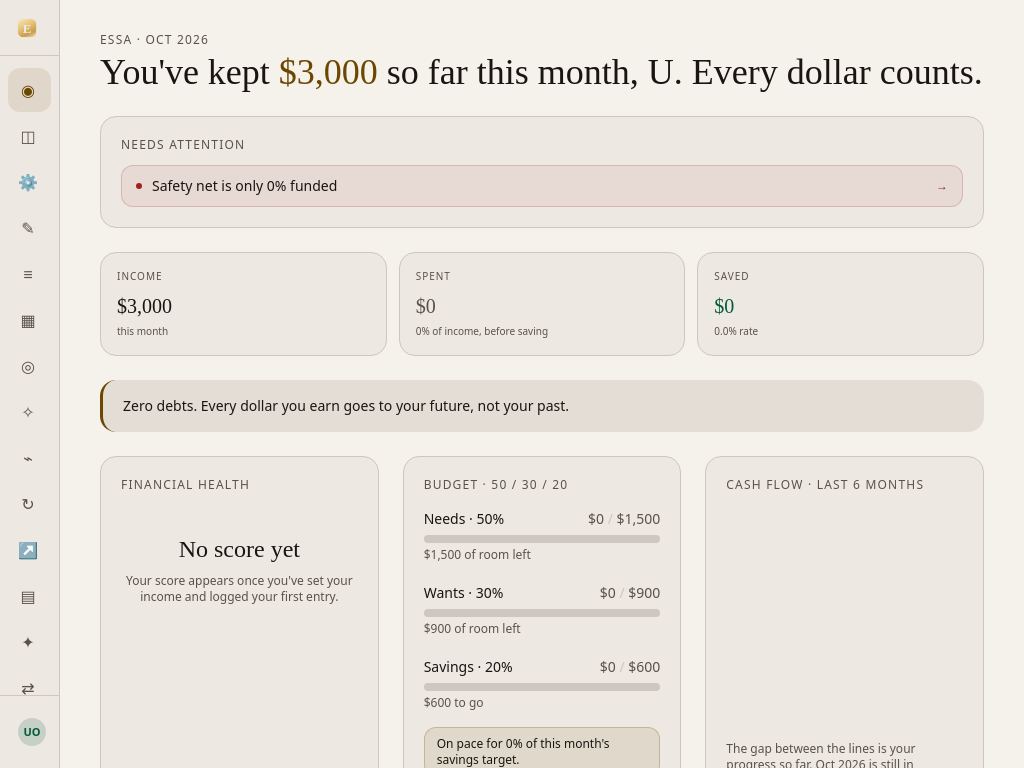
Test: a save that fails tells the user (ERR-01) › once storage takes writes again, the next change saves and the message goes
Expected: the button named "Setup" is shown, [8,160,51,204]
Click the button named "Wishlist" at (30, 412), box [8,390,51,434]
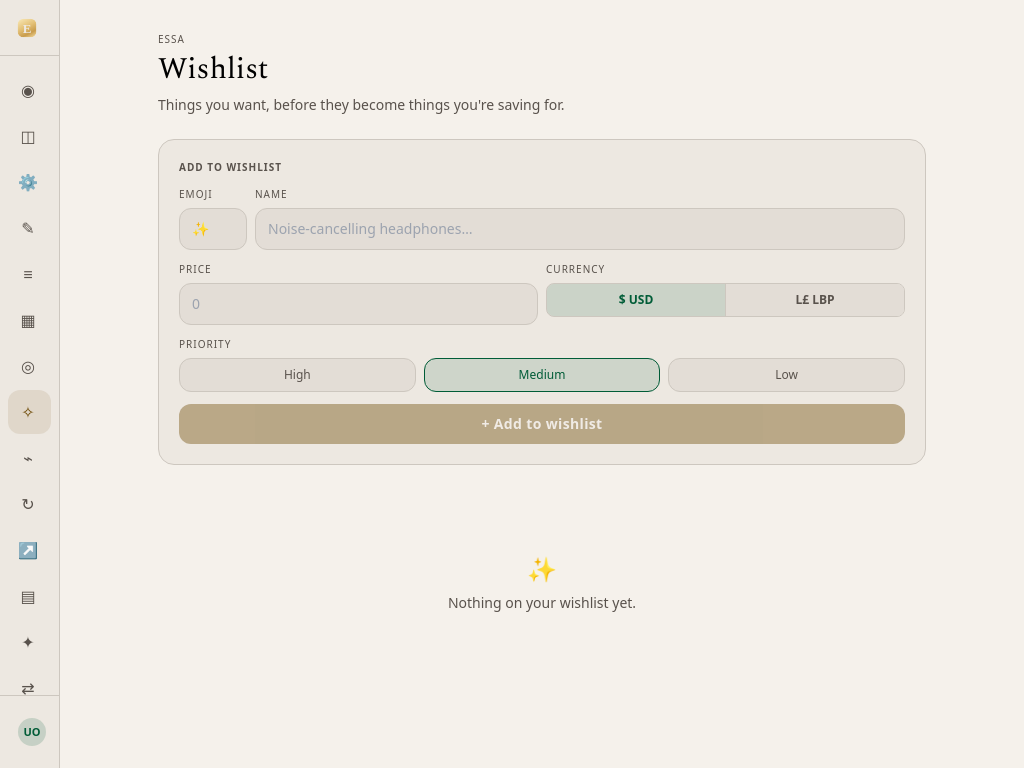
Expected: the field with placeholder "Noise-cancelling headphones…" is shown
Type "Standing desk" into the field with placeholder "Noise-cancelling headphones…" at (580, 229), box [255,208,905,250]
Type "300" into the field with id "wish-price" at (358, 304), box [179,283,538,325]
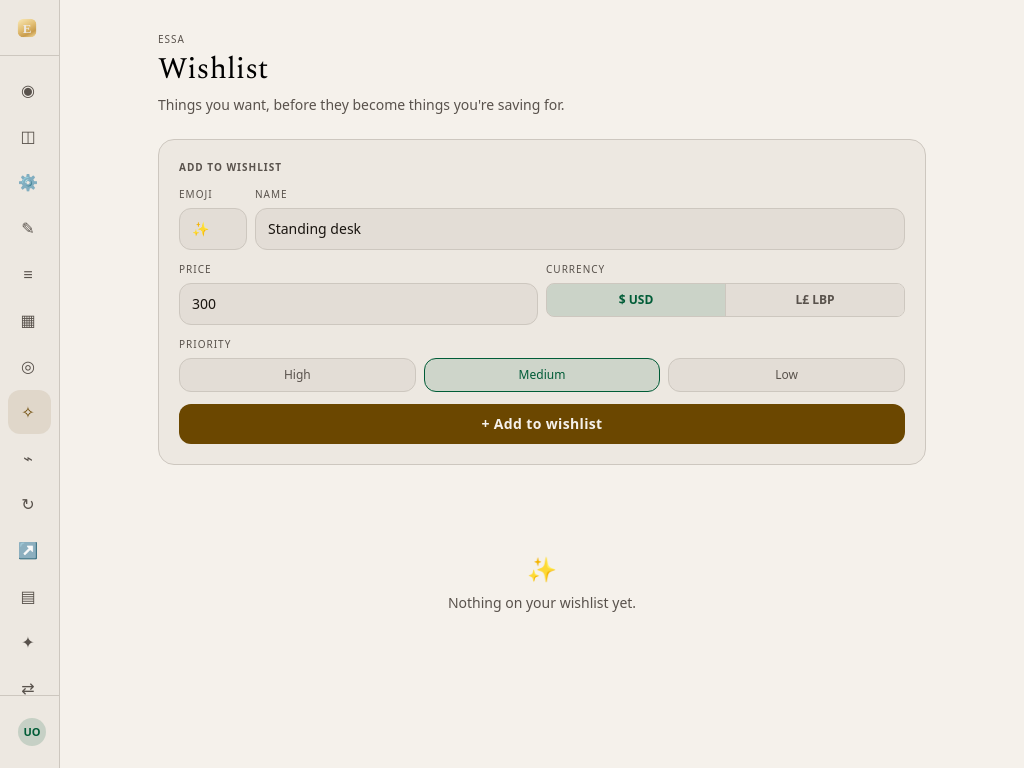
Click the button "+ Add to wishlist" at (542, 424), box [179,404,905,444]
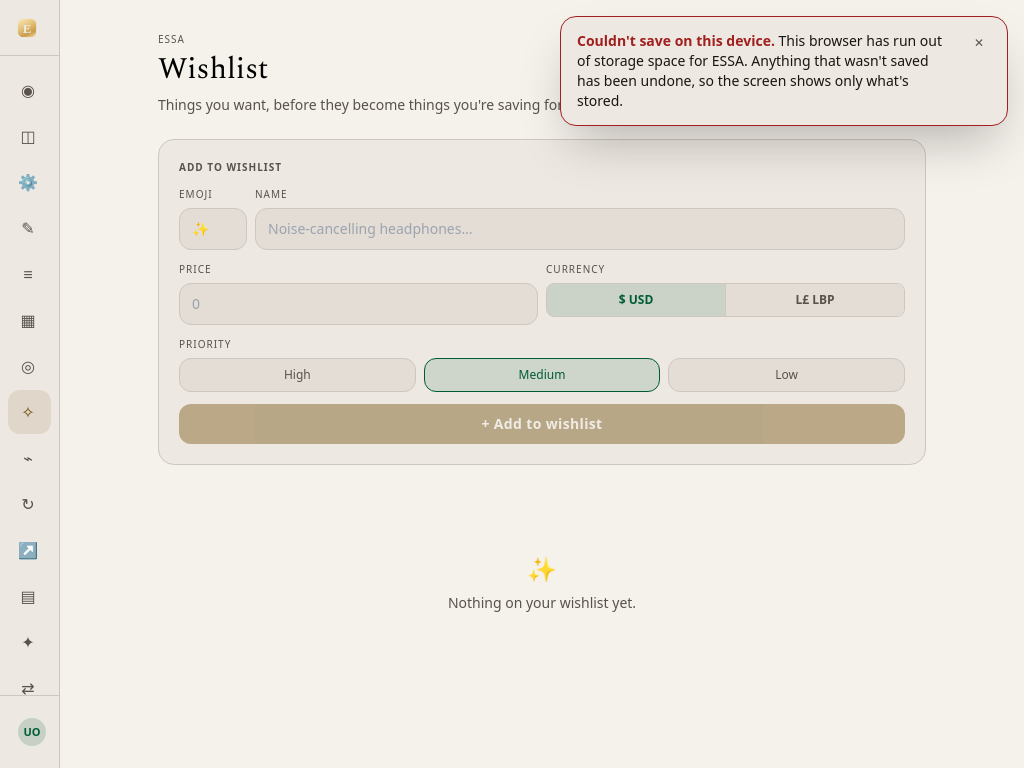
Expected: the message is shown, [560,16,1008,126]
Type "Standing desk" into the field with placeholder "Noise-cancelling headphones…" at (580, 229), box [255,208,905,250]
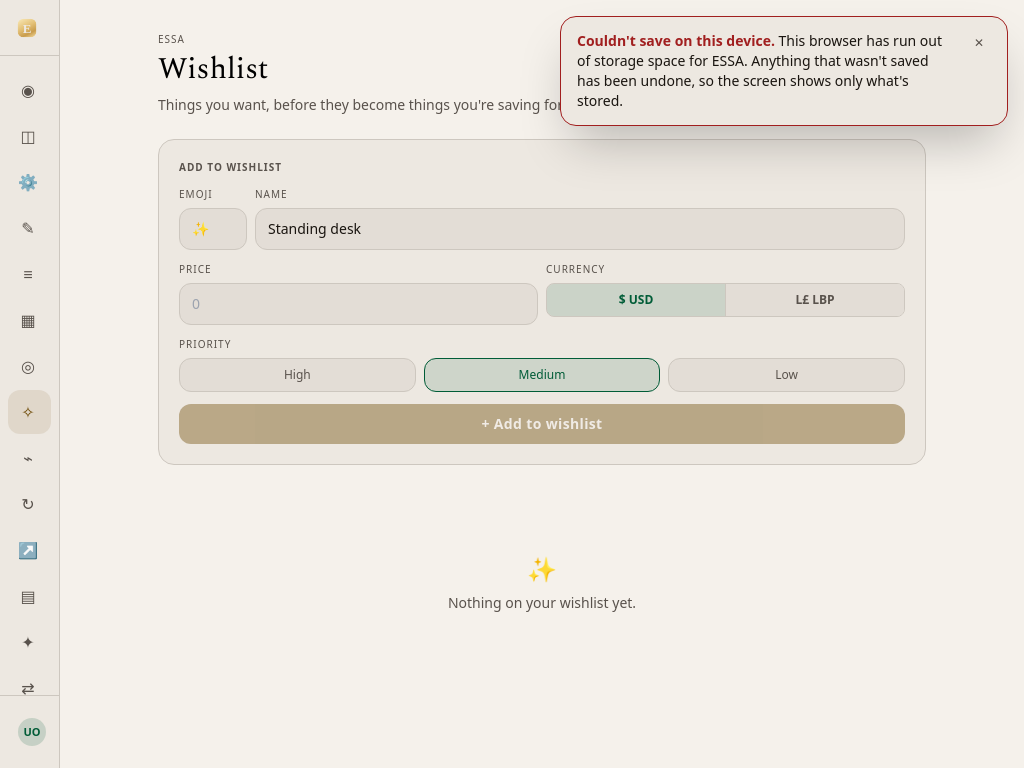
Type "300" into the field with id "wish-price" at (358, 304), box [179,283,538,325]
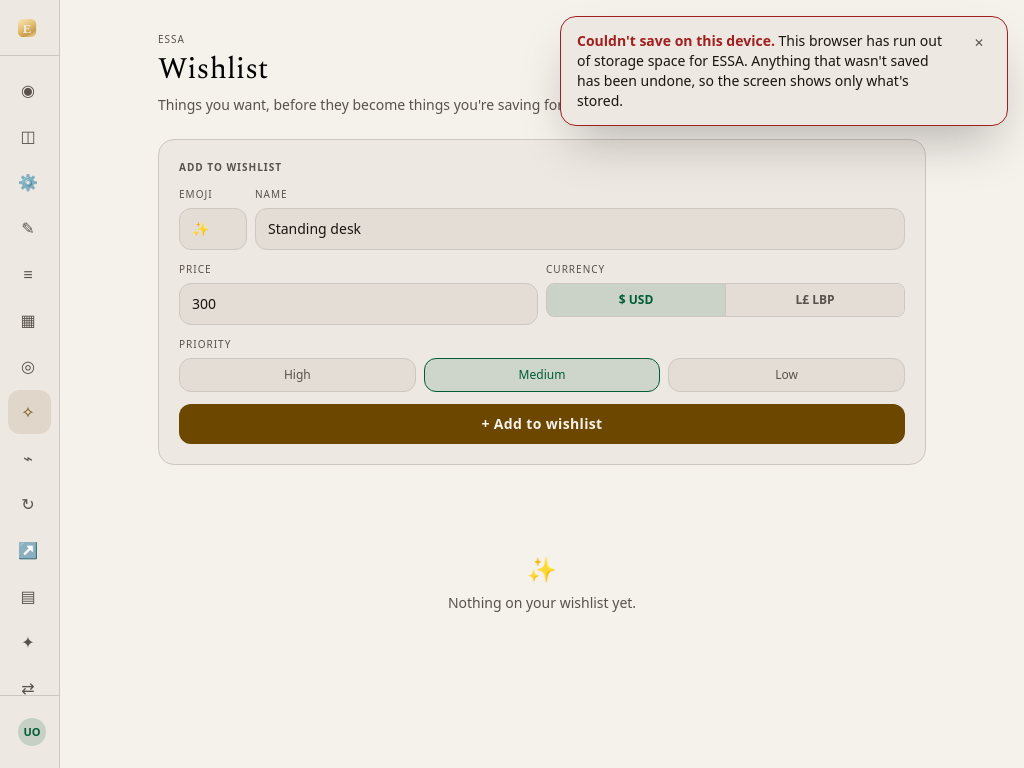
Click the button "+ Add to wishlist" at (542, 424), box [179,404,905,444]
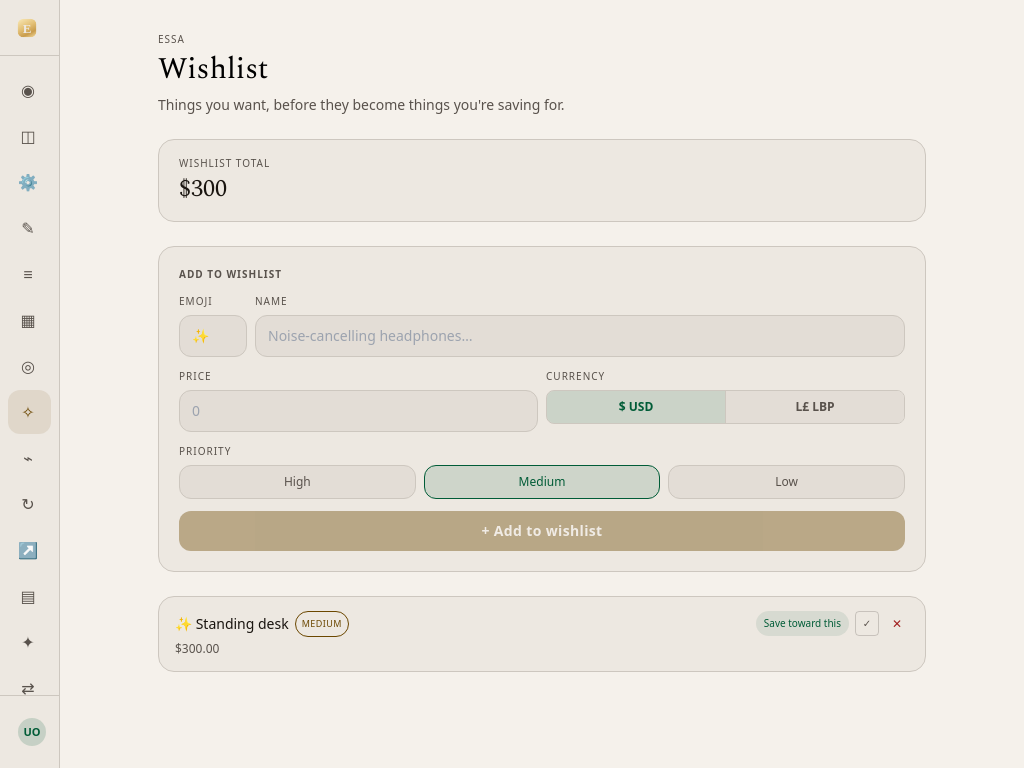
Expected: the message is gone
